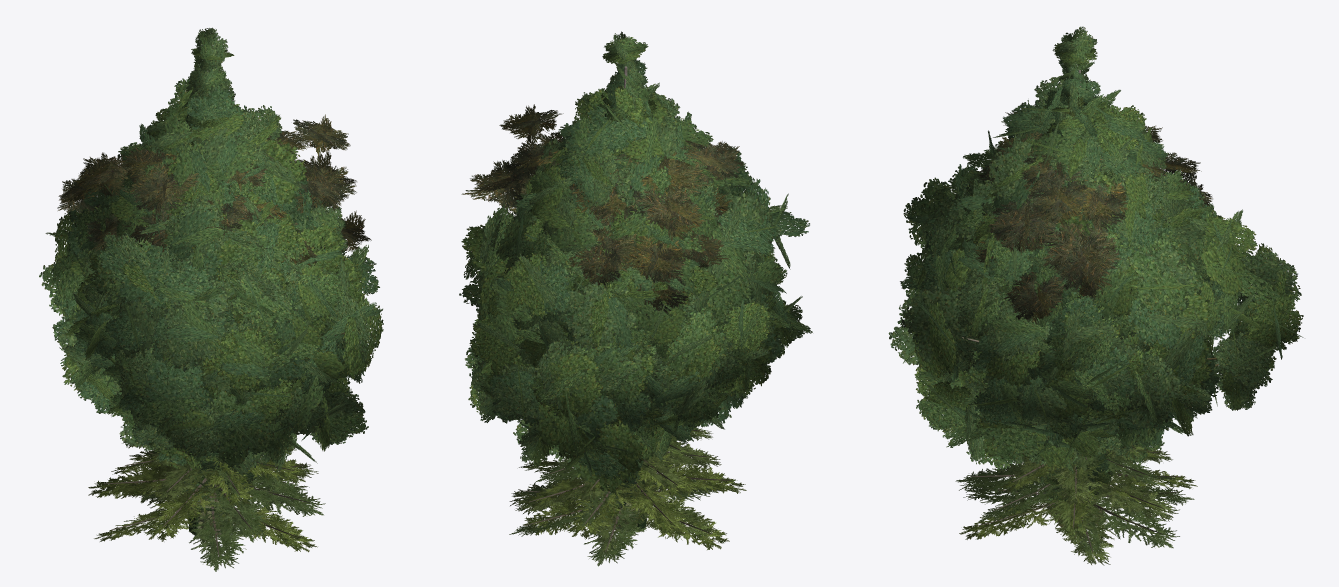
File: trees.glb
3 renders of one model, left to right at view 1: azimuth 30°, elevation 25°; view 2: azimuth 150°, elevation 25°; view 3: azimuth 270°, elevation 25°, orthographic.
Parts seen in each view (by area): view 1: tree_chene__leaves, tree_hetre__leaves, tree_sapin__leaves, tree_pin__leaves, tree_peuplier__leaves, tree_sapin__bark; view 2: tree_chene__leaves, tree_hetre__leaves, tree_pin__leaves, tree_sapin__leaves, tree_peuplier__leaves, tree_sapin__bark; view 3: tree_chene__leaves, tree_hetre__leaves, tree_sapin__leaves, tree_pin__leaves, tree_peuplier__leaves, tree_sapin__bark.
Boxes of the visible parts, x1=… form: tree_chene__leaves: x1=39, y1=141, x2=383, y2=475; tree_hetre__leaves: x1=67, y1=78, x2=348, y2=463; tree_sapin__leaves: x1=88, y1=95, x2=325, y2=571; tree_pin__leaves: x1=57, y1=114, x2=371, y2=265; tree_peuplier__leaves: x1=157, y1=27, x2=255, y2=514; tree_sapin__bark: x1=104, y1=451, x2=310, y2=556; tree_chene__leaves: x1=459, y1=174, x2=812, y2=491; tree_hetre__leaves: x1=468, y1=82, x2=787, y2=451; tree_pin__leaves: x1=461, y1=104, x2=744, y2=316; tree_sapin__leaves: x1=509, y1=160, x2=746, y2=566; tree_peuplier__leaves: x1=597, y1=31, x2=673, y2=507; tree_sapin__bark: x1=523, y1=417, x2=730, y2=551; tree_chene__leaves: x1=888, y1=162, x2=1303, y2=477; tree_hetre__leaves: x1=915, y1=75, x2=1227, y2=459; tree_sapin__leaves: x1=955, y1=92, x2=1197, y2=565; tree_pin__leaves: x1=972, y1=111, x2=1212, y2=324; tree_peuplier__leaves: x1=1032, y1=26, x2=1119, y2=504; tree_sapin__bark: x1=970, y1=441, x2=1180, y2=552.
Size of the model in its own units: 16.64 by 25.85 by 21.56.
Materials: 10 (9 with a texture image).
